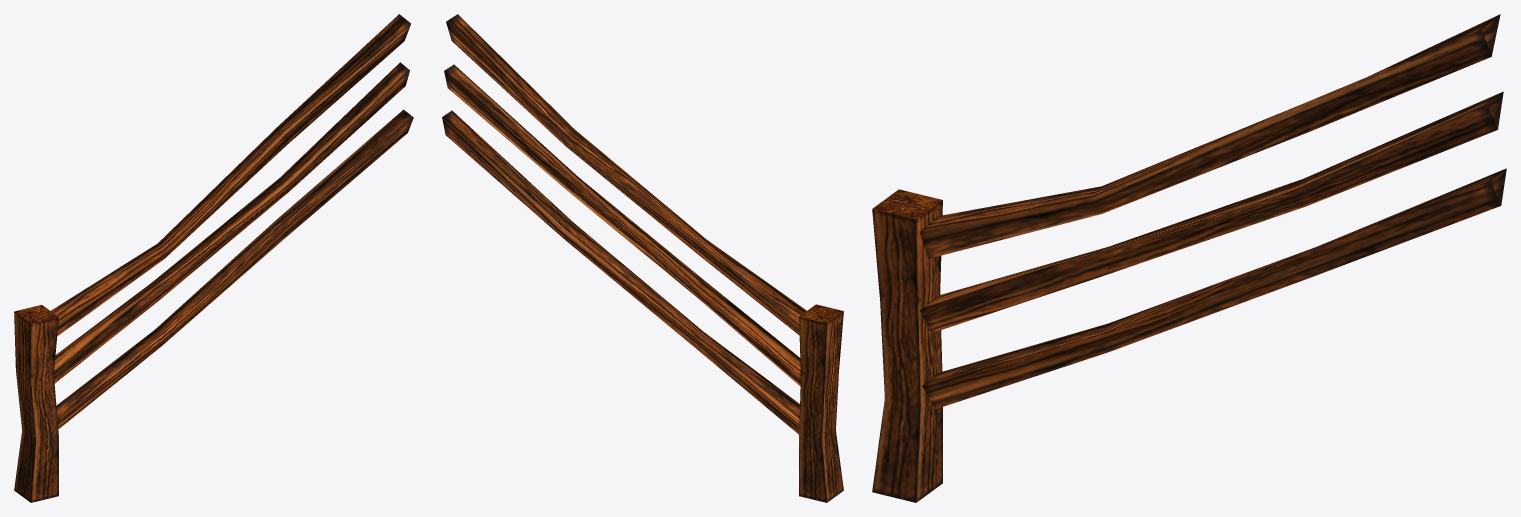
Rendered from INST_HTOWN_FENCEBRN30DEG.fbx.
The picture shows the model from 3 angles, left to right: view 1: azimuth 30°, elevation 25°; view 2: azimuth 150°, elevation 25°; view 3: azimuth 330°, elevation 25°; orthographic projection. The views are drawn at different scales.
Parts seen in each view (by area): view 1: INST_HTOWN_FENCEBRN30DEG; view 2: INST_HTOWN_FENCEBRN30DEG; view 3: INST_HTOWN_FENCEBRN30DEG.
Part boxes in pixels (x1,y1,x2,y2): INST_HTOWN_FENCEBRN30DEG: (14,14,413,502); INST_HTOWN_FENCEBRN30DEG: (442,14,843,502); INST_HTOWN_FENCEBRN30DEG: (872,14,1506,502).
Bounding box in the file's own units: 30236 × 28727 × 2372.
Materials: 2 (2 with a texture image).
